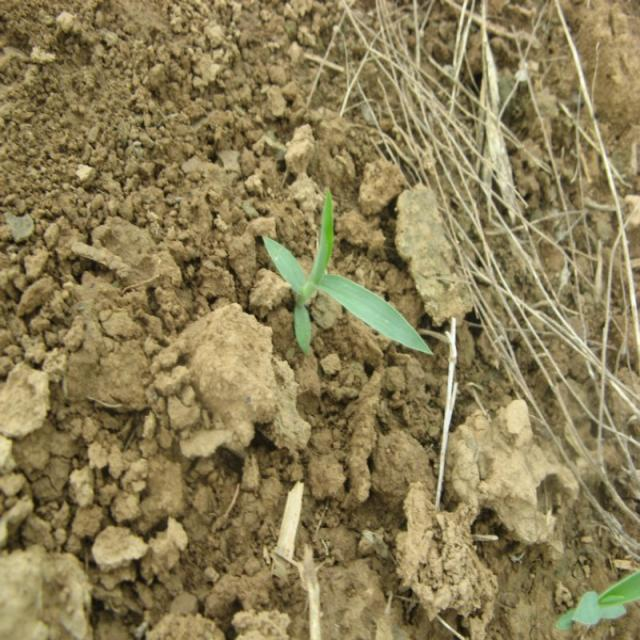bg: (261, 183, 437, 360)
